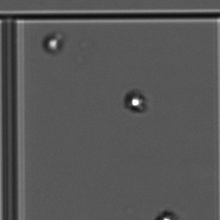Living Cell: (123, 92, 148, 113), (43, 35, 61, 50)
